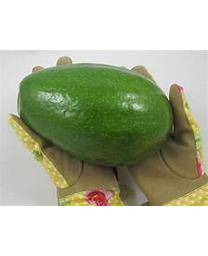avocado: (17, 63, 173, 167)
